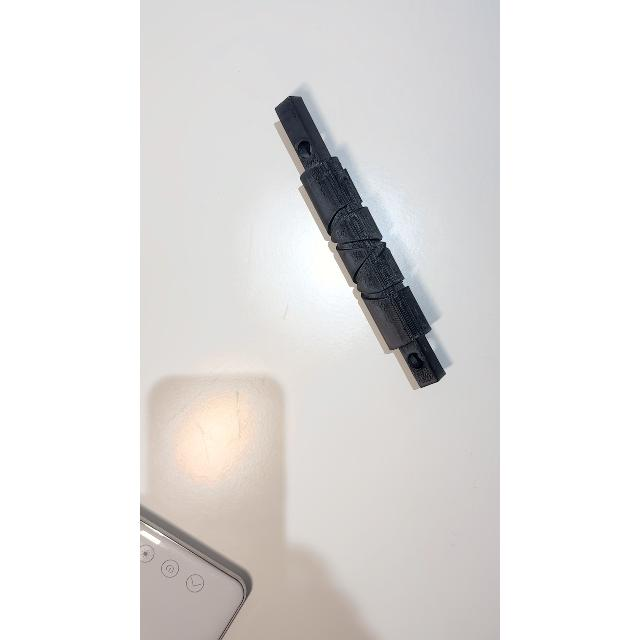Pieza_1: (256, 87, 468, 396)
